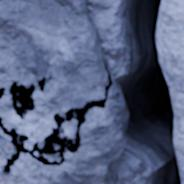brick: (0, 0, 107, 148), (0, 86, 124, 183), (157, 0, 183, 183), (0, 129, 14, 169)
crack: (0, 0, 182, 183), (0, 76, 51, 119)
